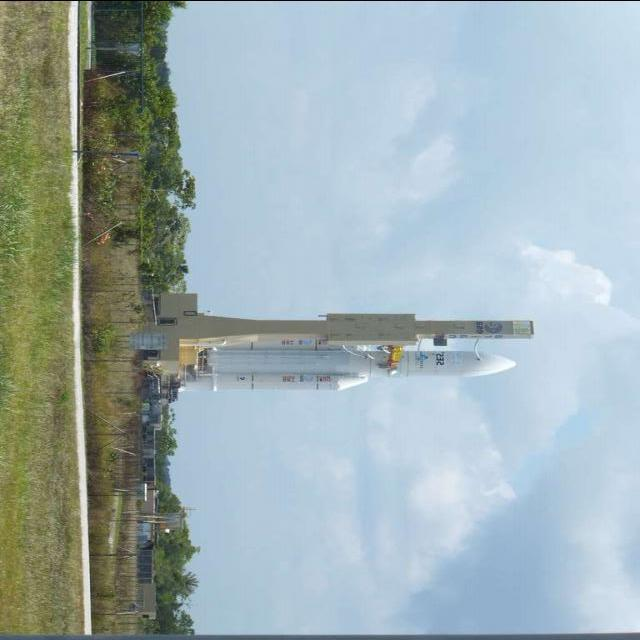missile: (189, 346, 526, 392)
